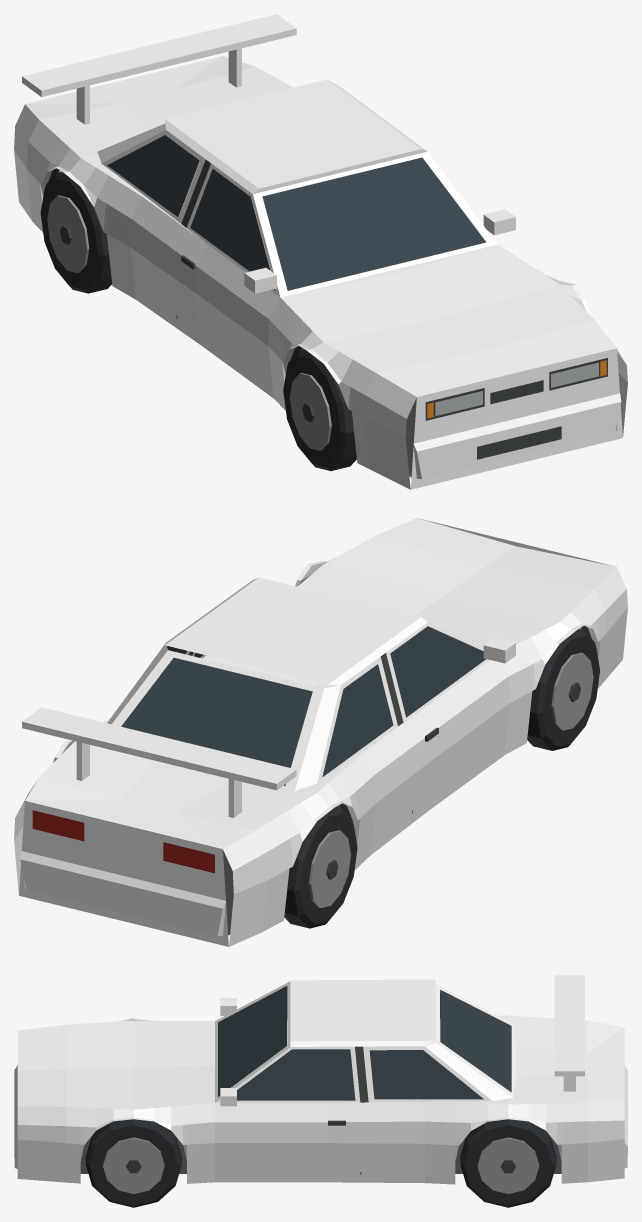
The model's file is hayase_tsubaki_corrida.glb.
3 renders of one model, top to bottom at view 1: azimuth 30°, elevation 25°; view 2: azimuth 150°, elevation 25°; view 3: azimuth 270°, elevation 25°, orthographic. The views are drawn at different scales.
Visible parts, largest first — view 1: hayase_tsubaki_corrida; view 2: hayase_tsubaki_corrida; view 3: hayase_tsubaki_corrida.
Part boxes in pixels (x1,y1,x2,y2): hayase_tsubaki_corrida: [14, 14, 627, 489]; hayase_tsubaki_corrida: [14, 518, 627, 946]; hayase_tsubaki_corrida: [14, 975, 627, 1207].
Size of the model in its own units: 1.74 by 1.2 by 4.44.
8 materials, 1 textured.
